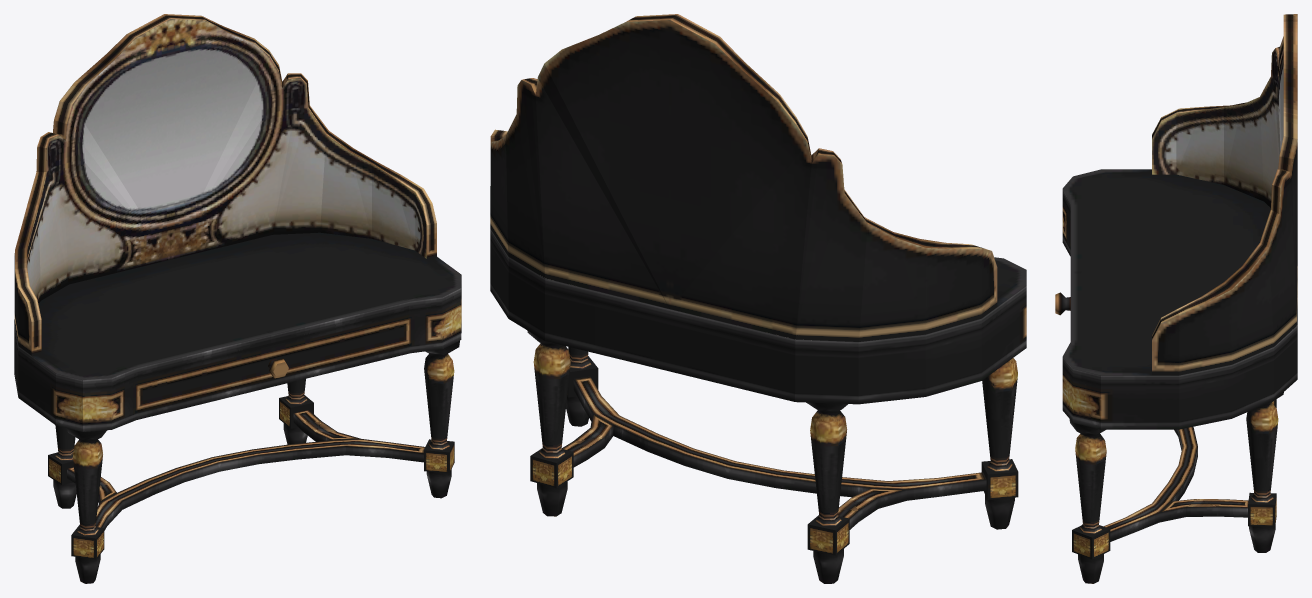
File: furni_0201217.FBX
3 renders of one model, left to right at view 1: azimuth 30°, elevation 25°; view 2: azimuth 150°, elevation 25°; view 3: azimuth 270°, elevation 25°, orthographic. The views are drawn at different scales.
Parts seen in each view (by area): view 1: furni_0201217; view 2: furni_0201217; view 3: furni_0201217.
Boxes of the visible parts, <box> form: furni_0201217: <box>14,14,461,583</box>; furni_0201217: <box>490,14,1026,583</box>; furni_0201217: <box>1055,14,1297,583</box>.
Bounding box in the file's own units: 161 × 172 × 80.23.
1 material, 1 textured.
